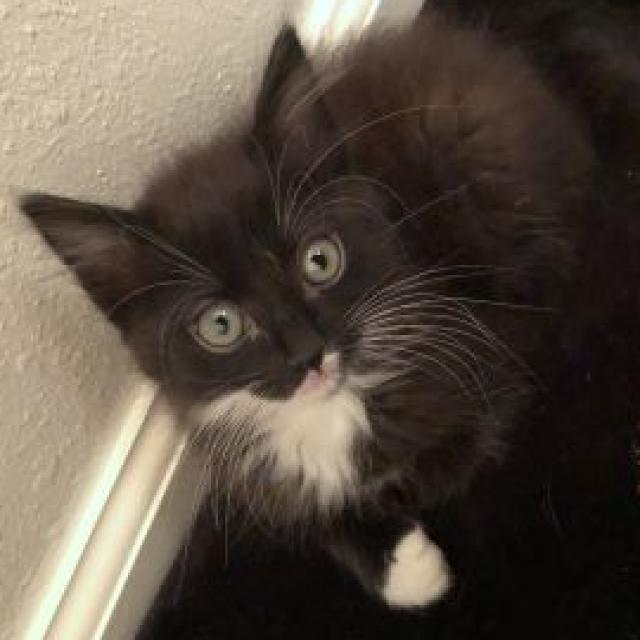Tuxedo: (18, 12, 600, 615)
